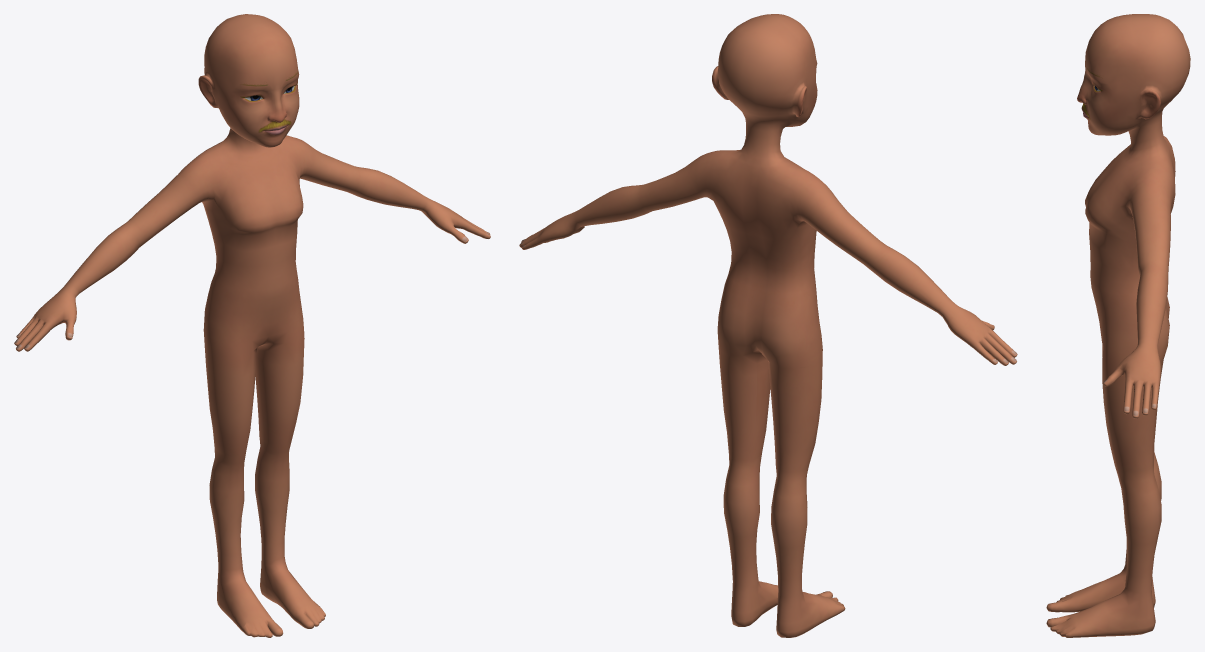
The model's file is frame_0072.glb.
The picture shows the model from 3 angles, left to right: view 1: azimuth 30°, elevation 25°; view 2: azimuth 150°, elevation 25°; view 3: azimuth 270°, elevation 25°; orthographic projection. The views are drawn at different scales.
Visible parts, largest first — view 1: frame_0072_head_geo; view 2: frame_0072_head_geo; view 3: frame_0072_head_geo.
Boxes of the visible parts, x1=… form: frame_0072_head_geo: x1=14, y1=14, x2=490, y2=637; frame_0072_head_geo: x1=519, y1=14, x2=1017, y2=637; frame_0072_head_geo: x1=1046, y1=14, x2=1190, y2=637.
Bounding box in the file's own units: 1.28 × 1.5 × 0.3253.
Materials: 3 (3 with a texture image).
